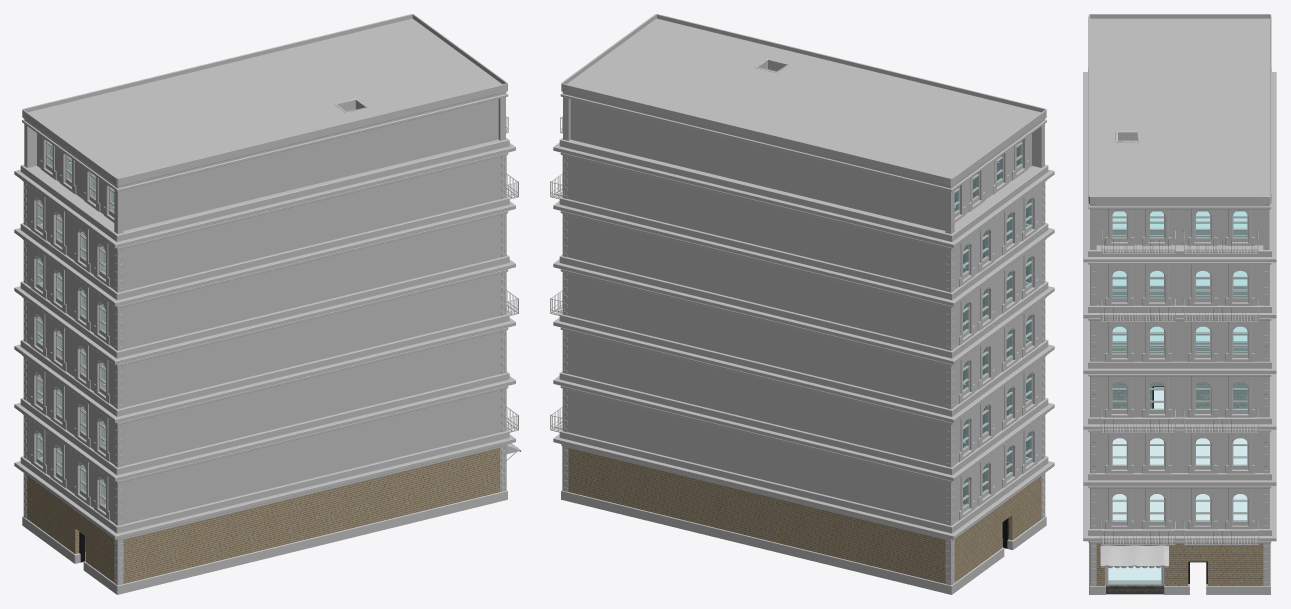
Rendered from SM_Building17_V3.fbx.
3 renders of one model, left to right at view 1: azimuth 30°, elevation 25°; view 2: azimuth 150°, elevation 25°; view 3: azimuth 270°, elevation 25°, orthographic. The views are drawn at different scales.
Visible parts, largest first — view 1: SM_Building17_V3; view 2: SM_Building17_V3; view 3: SM_Building17_V3.
Part boxes in pixels (box(x1,y1,x2,y2)): SM_Building17_V3: box(14, 14, 521, 594); SM_Building17_V3: box(550, 14, 1054, 594); SM_Building17_V3: box(1083, 14, 1276, 594).
Bounding box in the file's own units: 3019 × 2891 × 1270.
